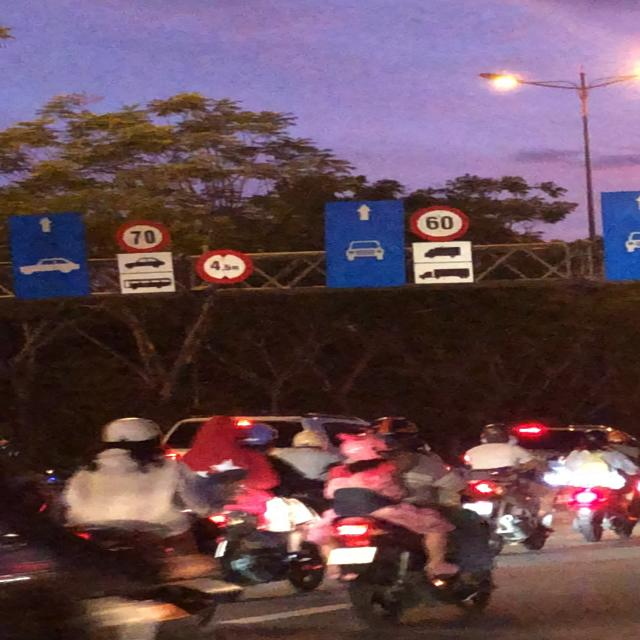Bien bao han che chieu cao: (193, 248, 259, 289)
Bien bao toc do toi da cho phep: (407, 203, 477, 242), (106, 217, 172, 255)
